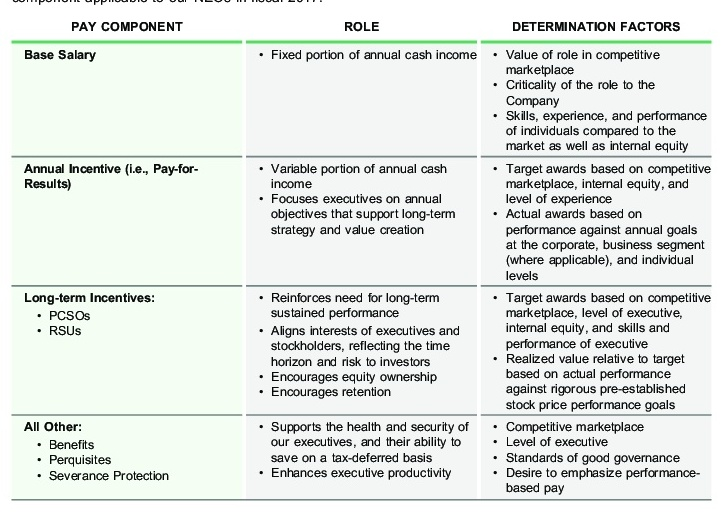table: (0, 0, 723, 515)
